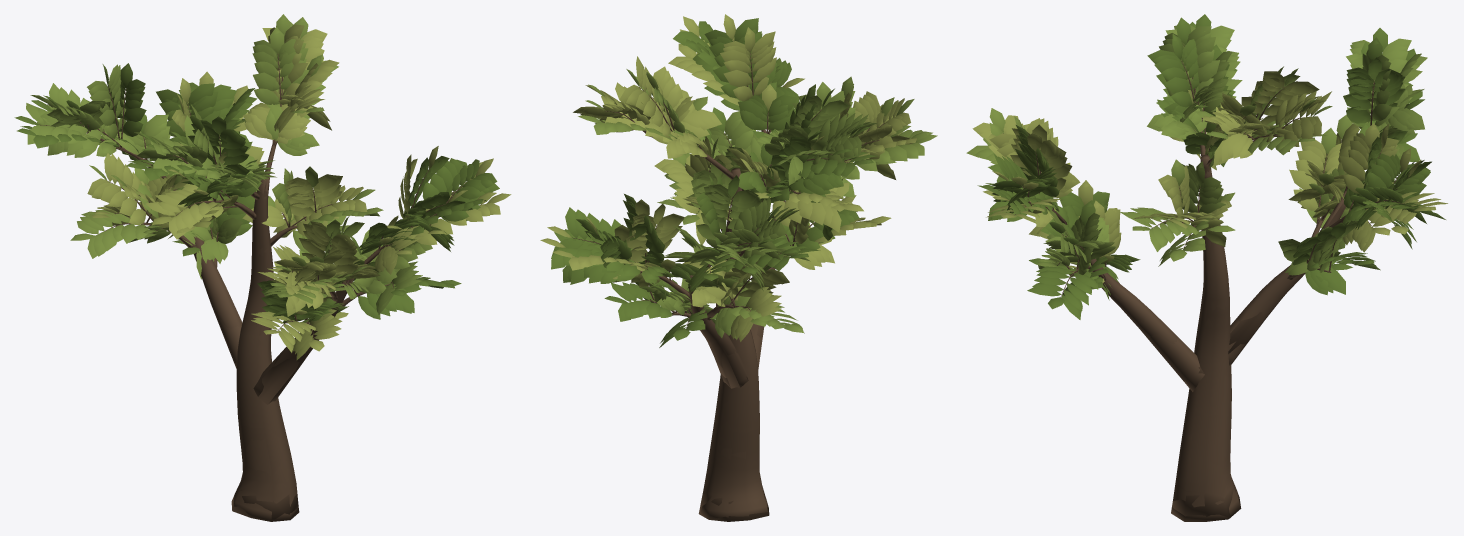
3 views of the same model, side by side, from view 1: azimuth 30°, elevation 25°; view 2: azimuth 150°, elevation 25°; view 3: azimuth 270°, elevation 25° (orthographic). The views are drawn at different scales.
Parts seen in each view (by area): view 1: L0_leaves, L1_leaves, L0_wood, L1_wood; view 2: L0_leaves, L1_leaves, L0_wood, L1_wood; view 3: L0_leaves, L1_leaves, L1_wood, L0_wood.
Part boxes in pixels (x1,y1,x2,y2): L0_leaves: [18, 17, 507, 356]; L1_leaves: [14, 14, 511, 360]; L0_wood: [39, 54, 481, 521]; L1_wood: [79, 70, 459, 521]; L0_leaves: [543, 17, 934, 346]; L1_leaves: [540, 14, 937, 347]; L0_wood: [572, 40, 884, 519]; L1_wood: [612, 57, 881, 521]; L0_leaves: [974, 16, 1445, 312]; L1_leaves: [966, 14, 1447, 319]; L1_wood: [1026, 70, 1396, 518]; L0_wood: [1003, 60, 1414, 521].
Bounding box in the file's own units: 3.46 × 4.77 × 4.42.
